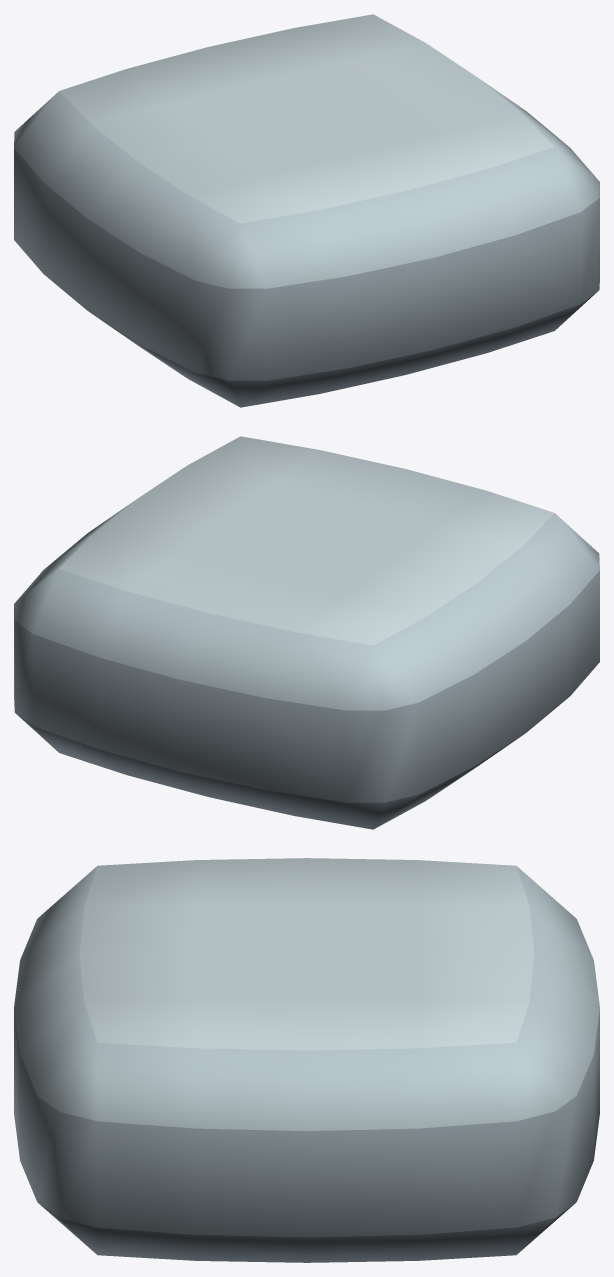
File: snow_top_1x1.fbx
3 views of the same model, one above another, from view 1: azimuth 30°, elevation 25°; view 2: azimuth 150°, elevation 25°; view 3: azimuth 270°, elevation 25° (orthographic). The views are drawn at different scales.
Parts seen in each view (by area): view 1: snow_top_1x1; view 2: snow_top_1x1; view 3: snow_top_1x1.
Boxes of the visible parts, x1,y1,x2,y2 form: snow_top_1x1: [14, 14, 599, 407]; snow_top_1x1: [14, 436, 599, 829]; snow_top_1x1: [14, 858, 599, 1262].
Bounding box in the file's own units: 137 × 55 × 137.
Materials: 1 (1 with a texture image).
